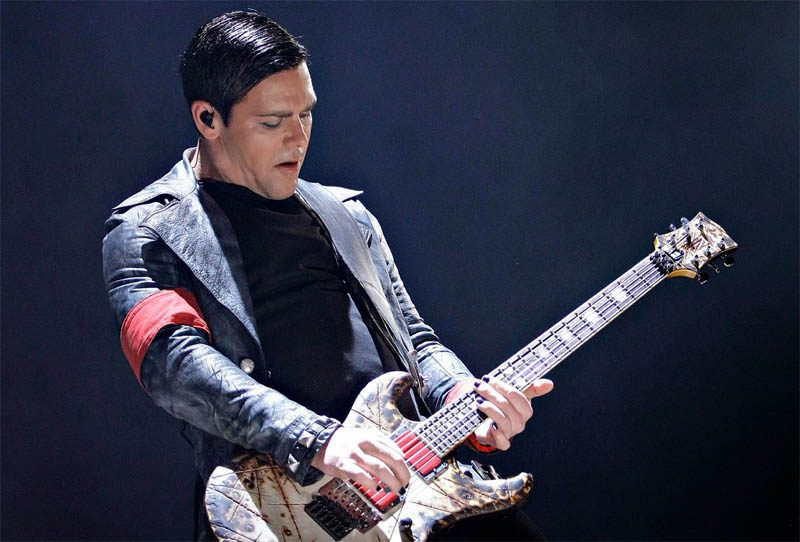acousticguitar: (197, 205, 744, 537)
